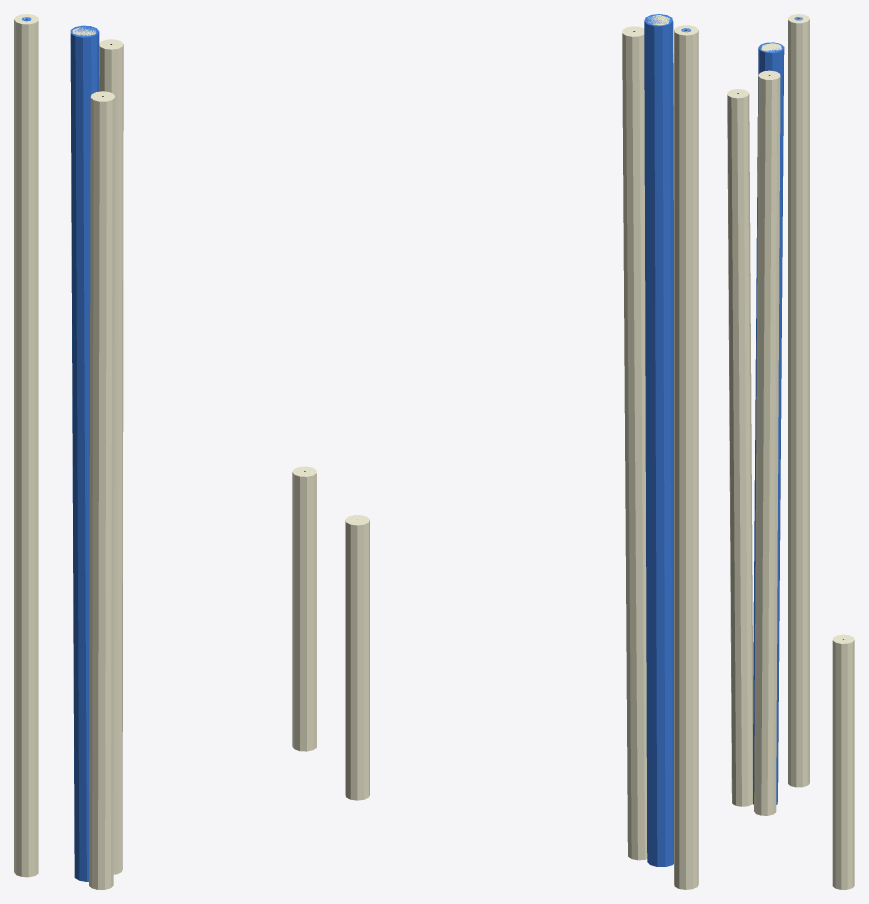
Rendered from tile_179.glb.
3 renders of one model, left to right at view 1: azimuth 30°, elevation 25°; view 2: azimuth 150°, elevation 25°; view 3: azimuth 270°, elevation 25°, orthographic. The views are drawn at different scales.
Size of the model in its own units: 3.75 by 9.42 by 1.42.
